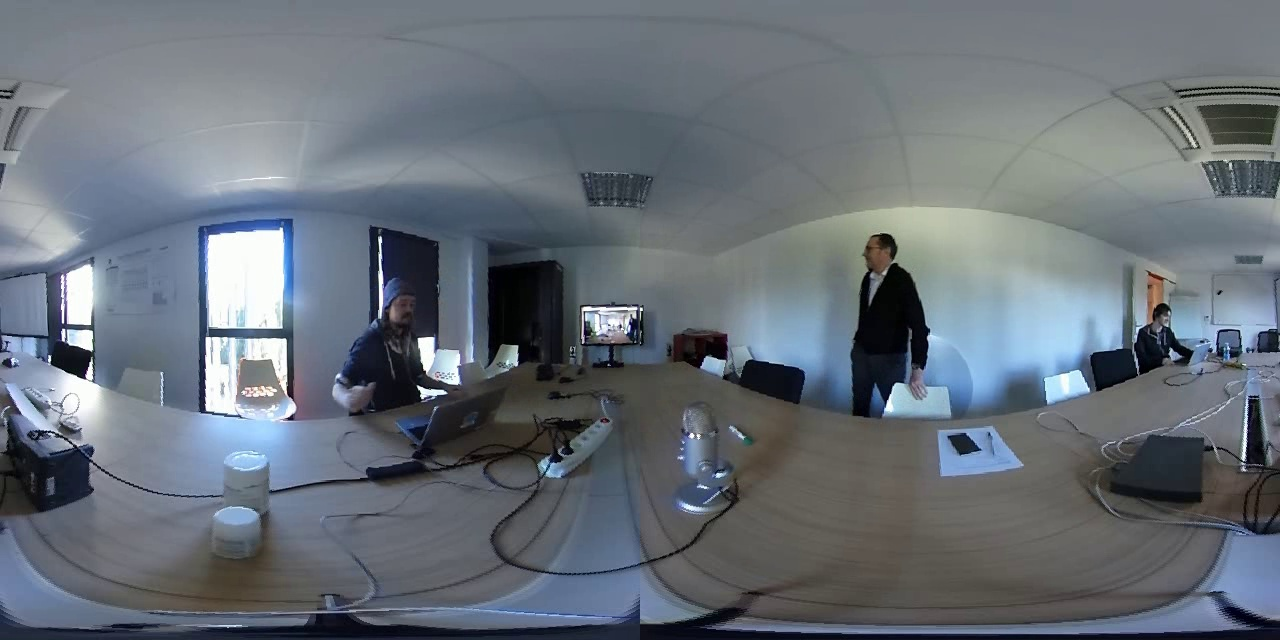person: (334, 268, 459, 406), (844, 224, 943, 395), (1129, 298, 1191, 367)
